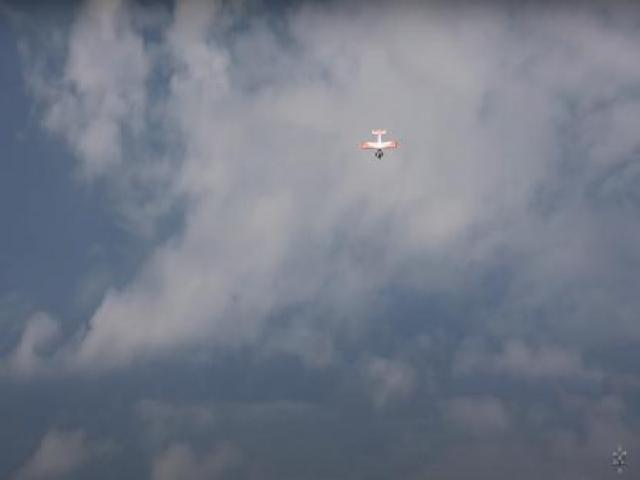uav: (358, 125, 397, 160)
